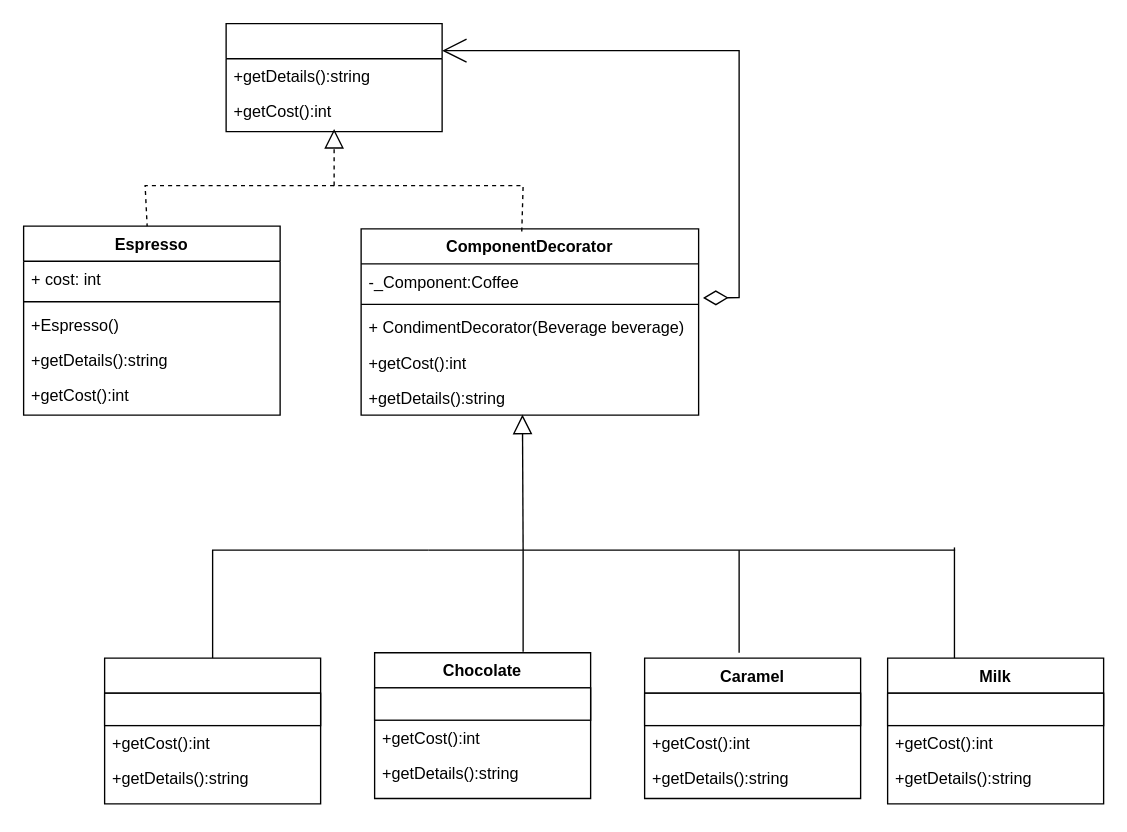
The diagram is 1127 pixels wide and 832 high, and some of its shapes have lost their labels. Each missing label, with the box of its shape:
Coffee: (225, 22, 442, 132)
WhippedCream: (103, 657, 321, 804)
